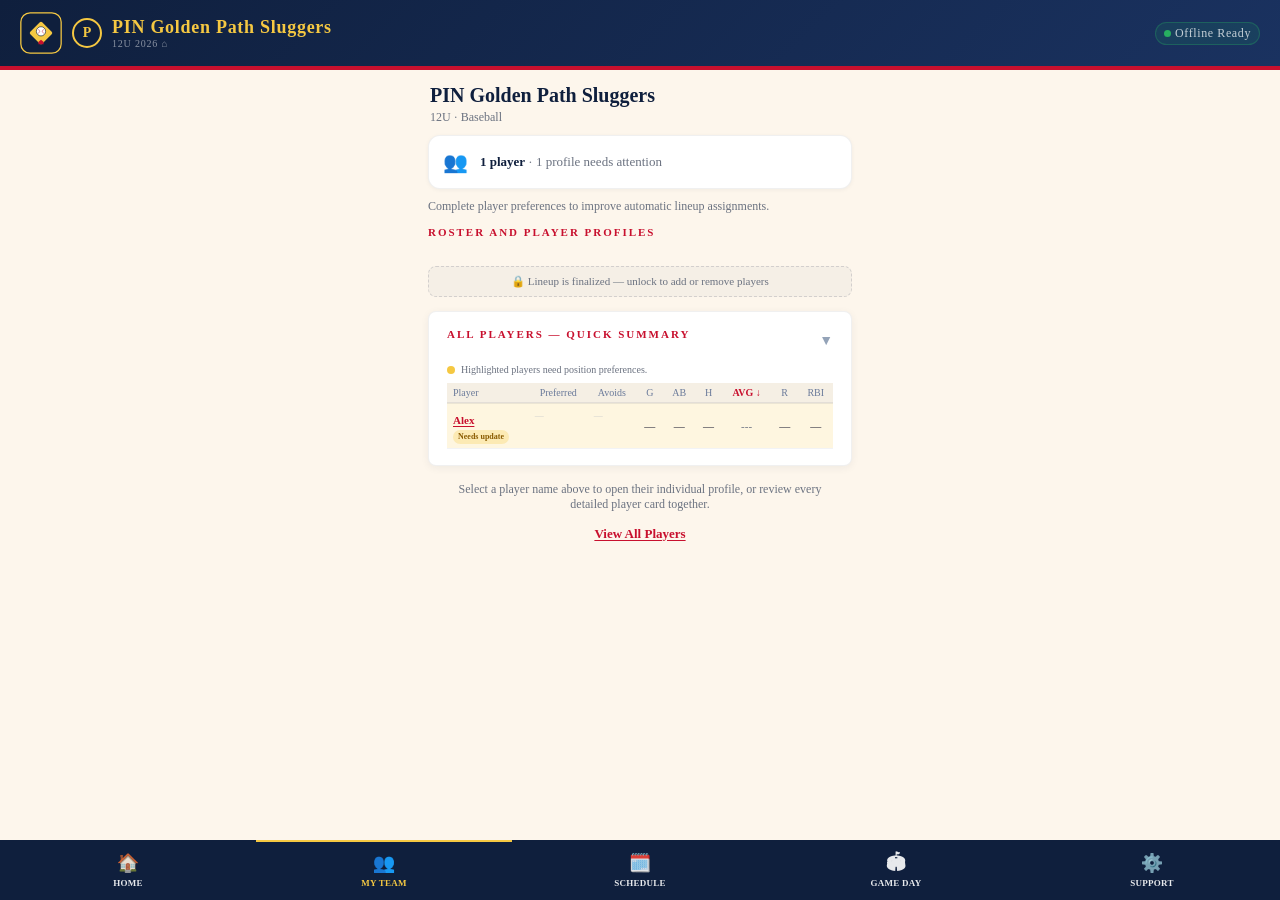
Scenario: App coach-PIN unlock golden path (#943) › rejects the wrong PIN with an inline error and keeps the lineup locked
Click the button "🏟 Game Day": x=896, y=870 [768,840,1024,899]
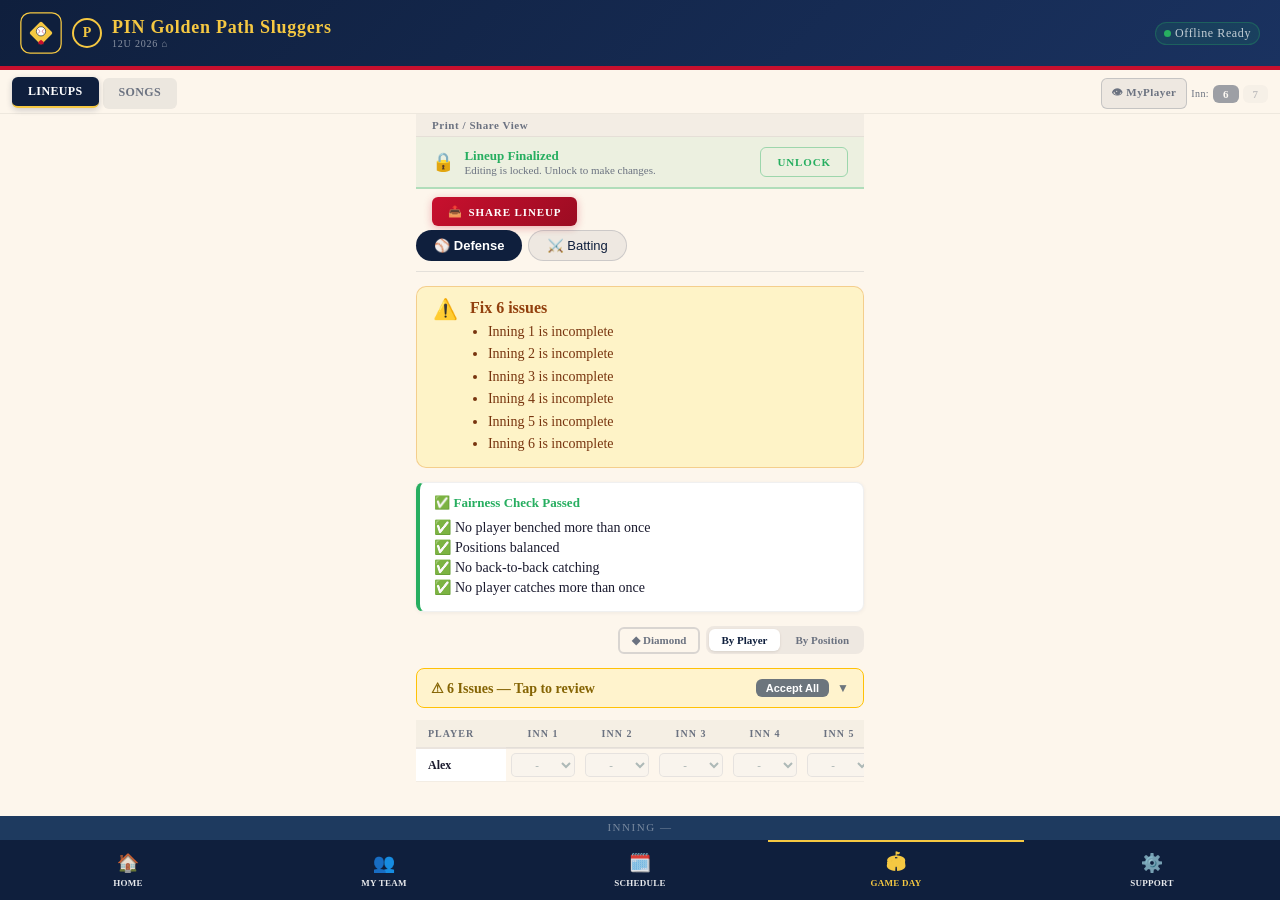
Expected: the text "Lineup Finalized" is shown, [464,148,559,163]
Click the button "Unlock": x=804, y=162 [760,147,848,177]
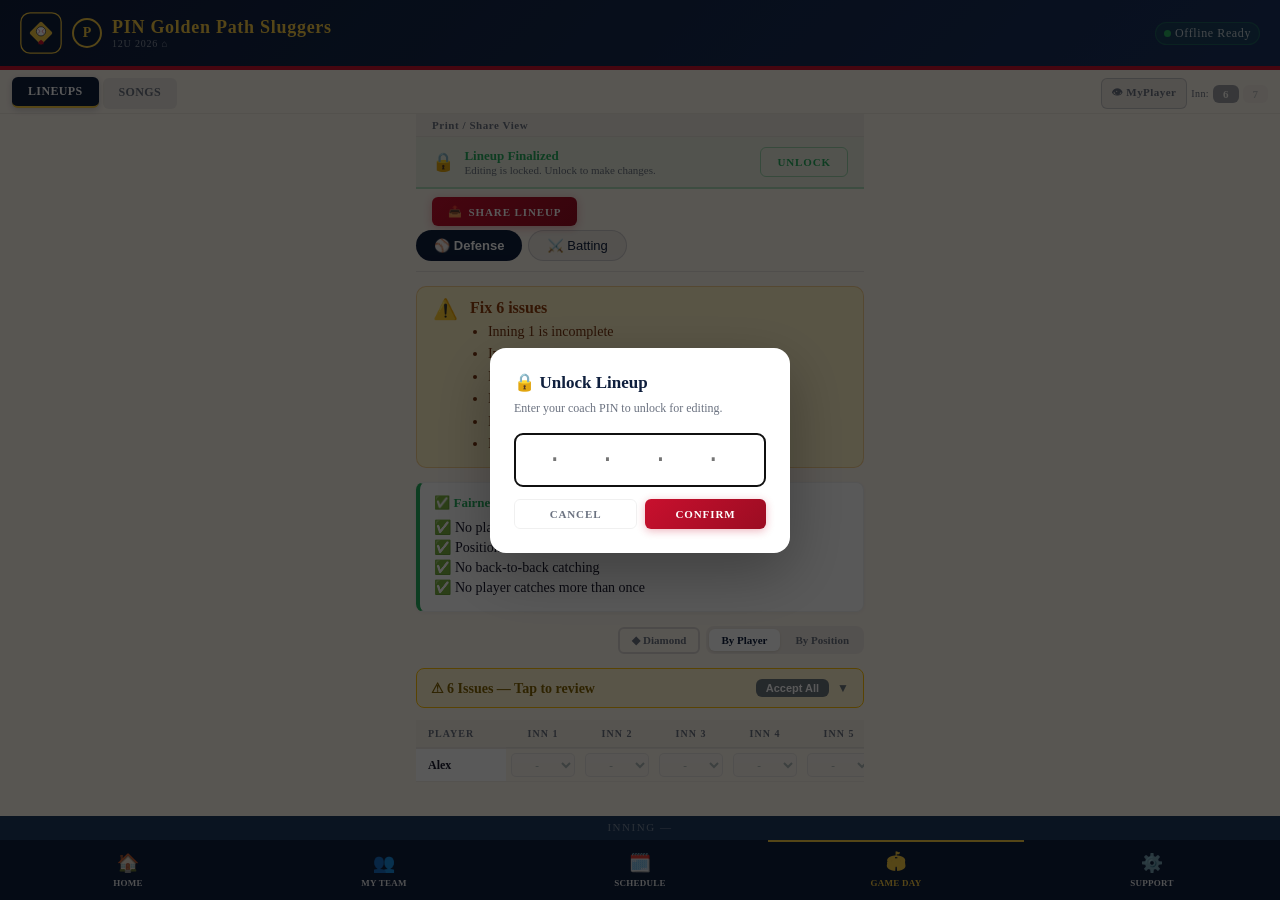
Expected: the text "🔒 Unlock Lineup" is shown, [514,372,648,392]
In the password field with placeholder "· · · ·": x=640, y=460 [514,432,766,486], type "0000"
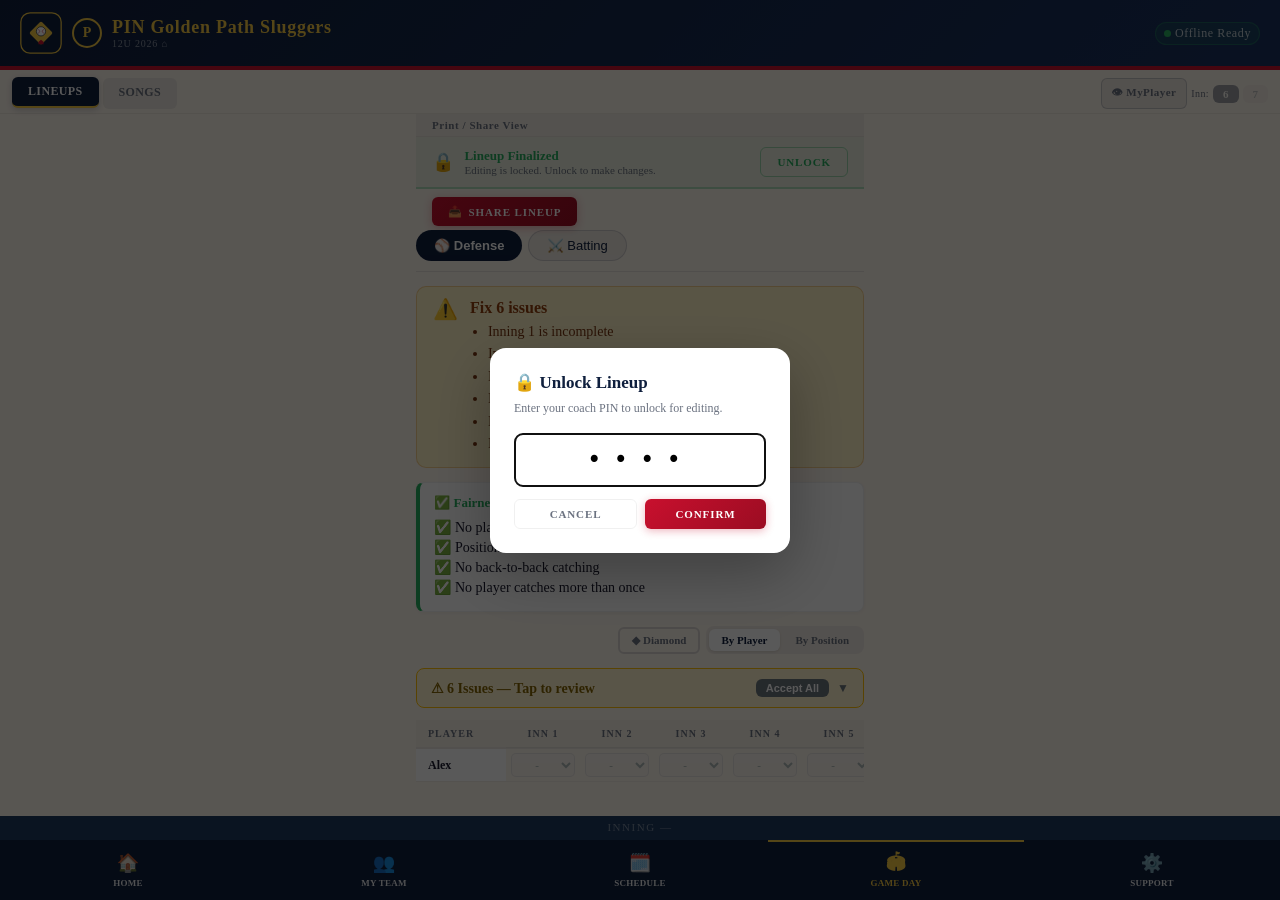
Click the button "Confirm": x=706, y=514 [645,498,766,528]
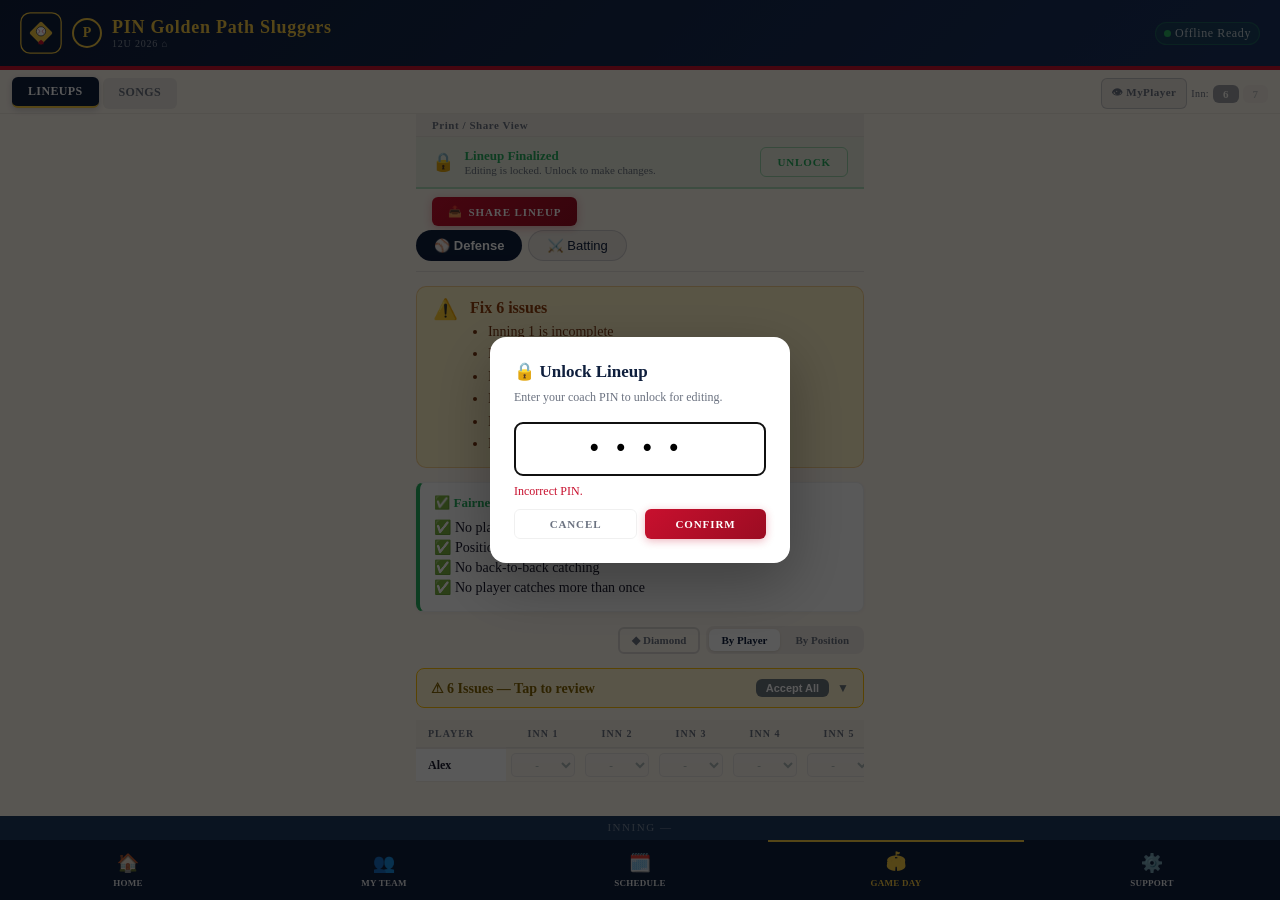
Expected: the text "Incorrect PIN." is shown, [514,484,583,498]
